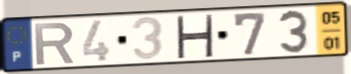3: (130, 15, 168, 63), (277, 8, 310, 55)
4: (80, 19, 112, 64)
7: (231, 11, 268, 57)
H: (173, 14, 215, 59)
R: (32, 21, 77, 67)
